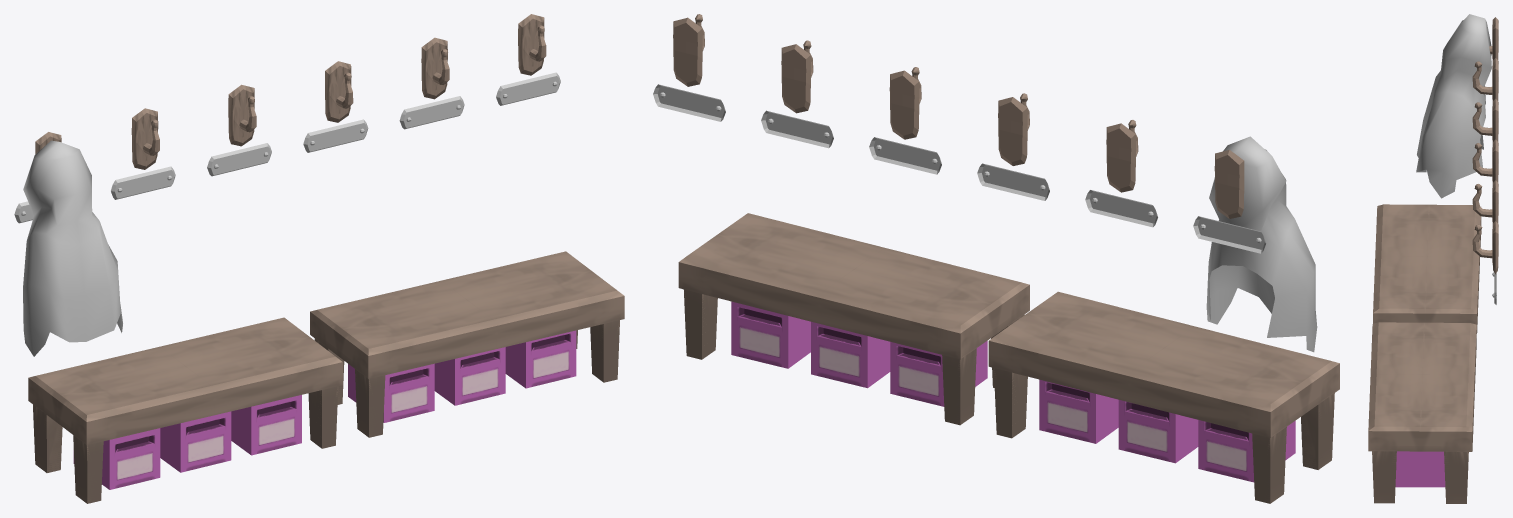
File: coat rack simplified.fbx
3 renders of one model, left to right at view 1: azimuth 30°, elevation 25°; view 2: azimuth 150°, elevation 25°; view 3: azimuth 270°, elevation 25°, orthographic. The views are drawn at different scales.
Parts seen in each view (by area): view 1: bench, bench.001, Plane, cubby.002, cubby.003, cubby.004, cubby.005, cubby, cubby.001, haken.005, haken.002, haken.004 (+7 smaller); view 2: bench, bench.001, Plane, cubby.005, cubby.004, cubby.003, cubby.002, cubby.001, cubby, haken.005, haken.002, haken.001 (+9 smaller); view 3: bench.001, bench, Plane, cubby.005, haken.005, haken.002, haken.003, haken.001, haken.004, haken.
Boxes of the visible parts, box(x1,y1,x2,y2) form: bench: box(28, 317, 342, 503); bench.001: box(310, 251, 624, 437); Plane: box(23, 140, 122, 356); cubby.002: box(160, 411, 231, 472); cubby.003: box(231, 395, 301, 455); cubby.004: box(434, 347, 505, 405); cubby.005: box(505, 330, 576, 388); cubby: box(73, 428, 160, 489); cubby.001: box(348, 363, 434, 422); haken.005: box(518, 14, 546, 75); haken.002: box(228, 84, 256, 146); haken.004: box(421, 37, 449, 99); bench: box(988, 291, 1339, 503); bench.001: box(678, 213, 1029, 425); Plane: box(1206, 136, 1317, 352); cubby.005: box(731, 301, 810, 368); cubby.004: box(811, 321, 890, 388); cubby.003: box(1039, 379, 1118, 443); cubby.002: box(1118, 400, 1198, 463); cubby.001: box(890, 340, 987, 406); cubby: box(1198, 420, 1295, 482); haken.005: box(673, 14, 704, 86); haken.002: box(998, 93, 1029, 165); haken.001: box(1106, 120, 1138, 192); bench.001: box(1368, 322, 1476, 503); bench: box(1373, 204, 1481, 333); Plane: box(1416, 14, 1491, 198); cubby.005: box(1395, 451, 1445, 487); haken.005: box(1472, 221, 1498, 274); haken.002: box(1472, 98, 1498, 141); haken.003: box(1472, 139, 1498, 182); haken.001: box(1472, 58, 1498, 100); haken.004: box(1472, 180, 1498, 223); haken: box(1489, 17, 1498, 60).
Size of the model in its own units: 3028 by 1652 by 704.
